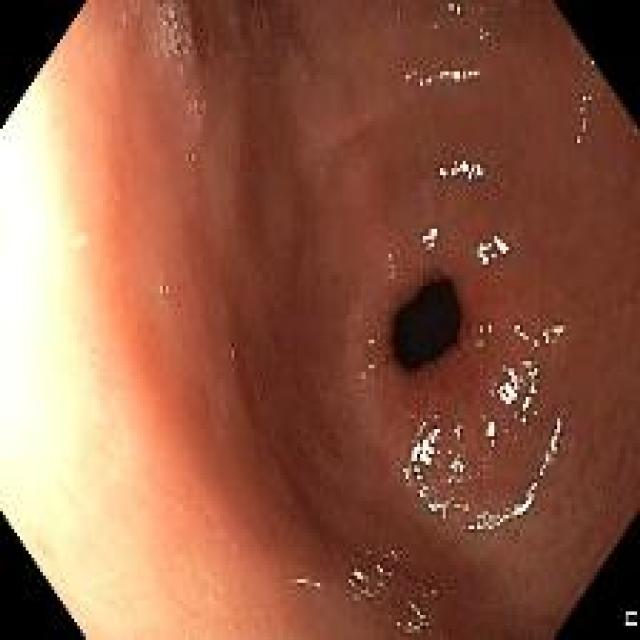bubbles: (152, 0, 195, 65), (578, 93, 595, 133), (190, 98, 207, 115), (447, 1, 465, 17), (478, 24, 491, 43), (551, 331, 565, 348), (418, 585, 430, 602), (418, 615, 431, 630), (157, 282, 169, 297), (516, 374, 528, 389), (411, 622, 425, 634), (184, 149, 195, 164), (256, 21, 265, 33)
contrast: (388, 274, 464, 374)
saturation: (0, 63, 158, 637)
specularity: (495, 361, 539, 425), (403, 420, 442, 484), (537, 418, 562, 477), (415, 483, 452, 520), (437, 158, 483, 184), (475, 234, 509, 265), (470, 508, 511, 533), (509, 484, 539, 516), (575, 89, 592, 144), (418, 224, 441, 253), (446, 450, 466, 483), (437, 68, 477, 82), (540, 323, 564, 346), (512, 323, 531, 345), (485, 419, 495, 438), (450, 426, 462, 440), (475, 323, 485, 336), (475, 337, 483, 351), (532, 336, 539, 351), (417, 75, 424, 88), (485, 323, 493, 333), (488, 439, 496, 449), (488, 389, 496, 399), (426, 74, 432, 87)
